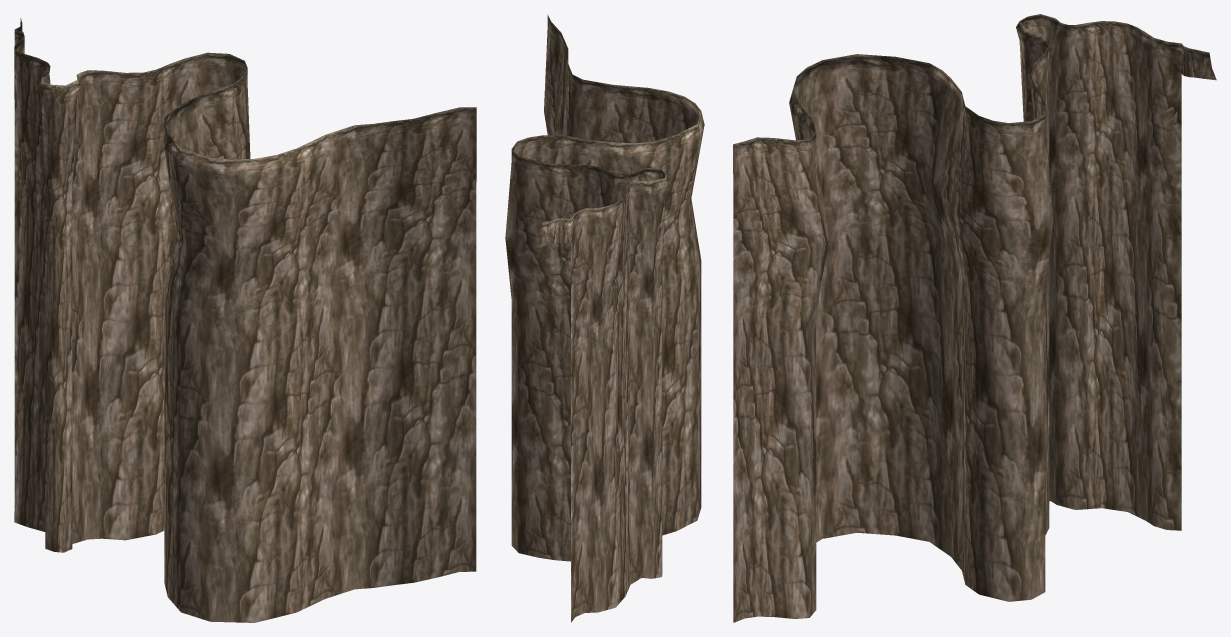
The model's file is OVERHILL_A_01_LINE109.fbx.
The picture shows the model from 3 angles, left to right: view 1: azimuth 30°, elevation 25°; view 2: azimuth 150°, elevation 25°; view 3: azimuth 270°, elevation 25°; orthographic projection. The views are drawn at different scales.
Visible parts, largest first — view 1: OVERHILL_A_01_LINE109; view 2: OVERHILL_A_01_LINE109; view 3: OVERHILL_A_01_LINE109.
Part boxes in pixels (left/top/right/bottom): OVERHILL_A_01_LINE109: left=14, top=18, right=476, bottom=622; OVERHILL_A_01_LINE109: left=505, top=14, right=704, bottom=622; OVERHILL_A_01_LINE109: left=733, top=14, right=1216, bottom=622.
Size of the model in its own units: 151428 by 247043 by 212565.
Materials: 2 (2 with a texture image).
